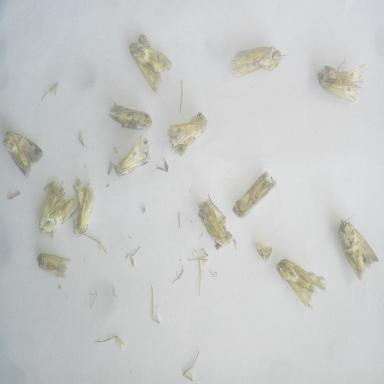abw: (335, 211, 382, 285), (274, 256, 328, 313), (314, 56, 369, 109), (126, 38, 174, 96), (228, 41, 292, 84), (35, 174, 77, 238), (229, 168, 279, 221), (0, 126, 46, 183), (163, 106, 210, 160), (192, 191, 235, 250), (108, 130, 152, 184), (66, 177, 102, 242), (103, 97, 155, 136), (33, 246, 72, 284)
